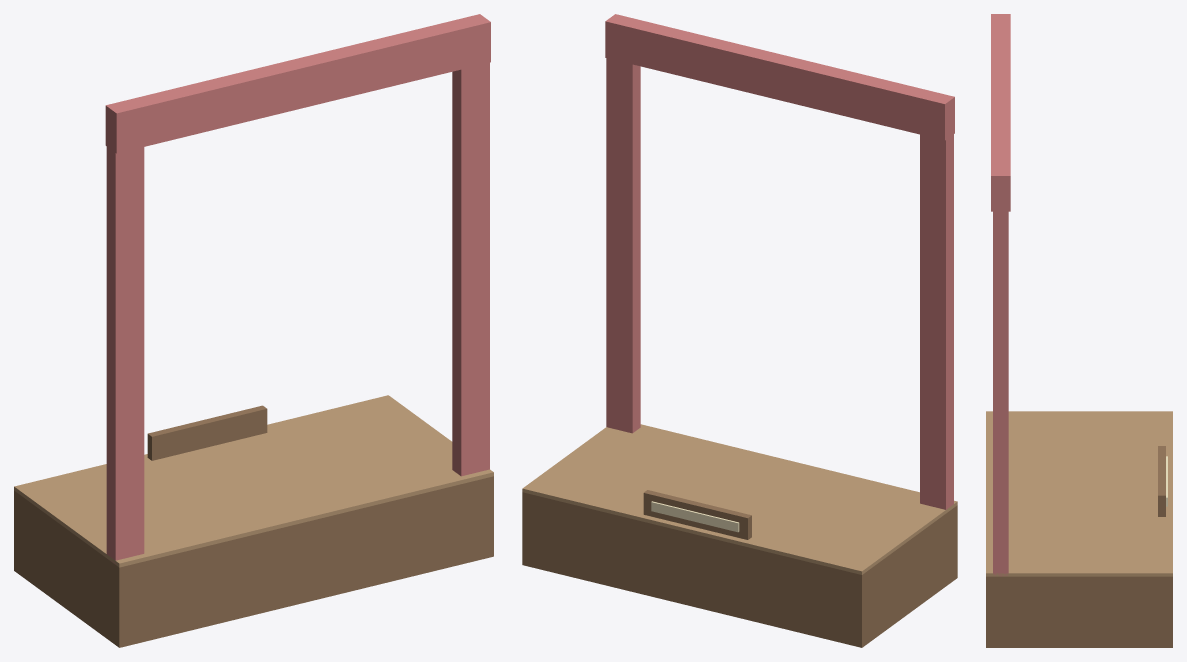
The model's file is stage.glb.
3 views of the same model, side by side, from view 1: azimuth 30°, elevation 25°; view 2: azimuth 150°, elevation 25°; view 3: azimuth 270°, elevation 25° (orthographic). The views are drawn at different scales.
Visible parts, largest first — view 1: stage; view 2: stage; view 3: stage.
Boxes of the visible parts, x1,y1,x2,y2 form: stage: [14, 14, 493, 647]; stage: [522, 14, 957, 647]; stage: [986, 14, 1172, 647].
Bounding box in the file's own units: 1.95 × 2.65 × 0.95.
